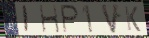1: (82, 4, 95, 35)
H: (38, 4, 61, 35)
I: (22, 5, 30, 34)
K: (123, 6, 142, 34)
P: (60, 4, 80, 35)
V: (99, 3, 121, 36)
